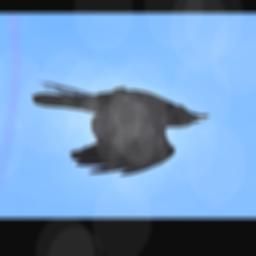Crow: (30, 79, 210, 176)
